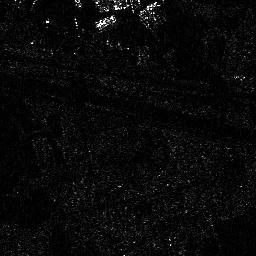ship: (93, 14, 118, 32)
